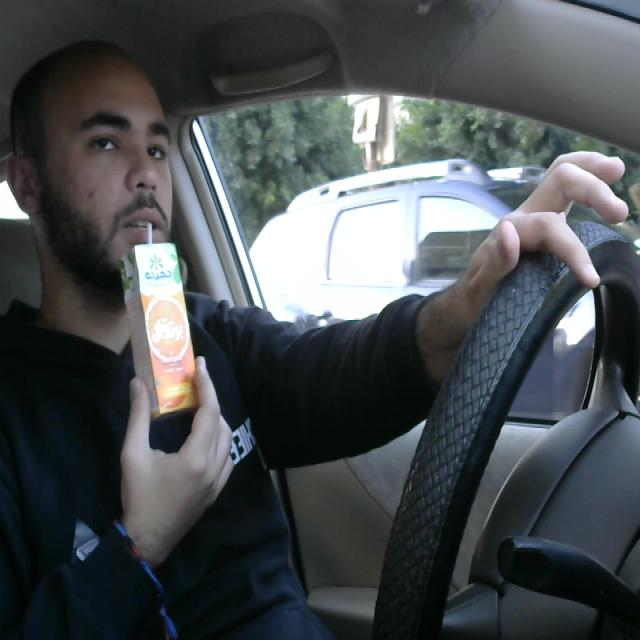drinking: (117, 207, 209, 424)
